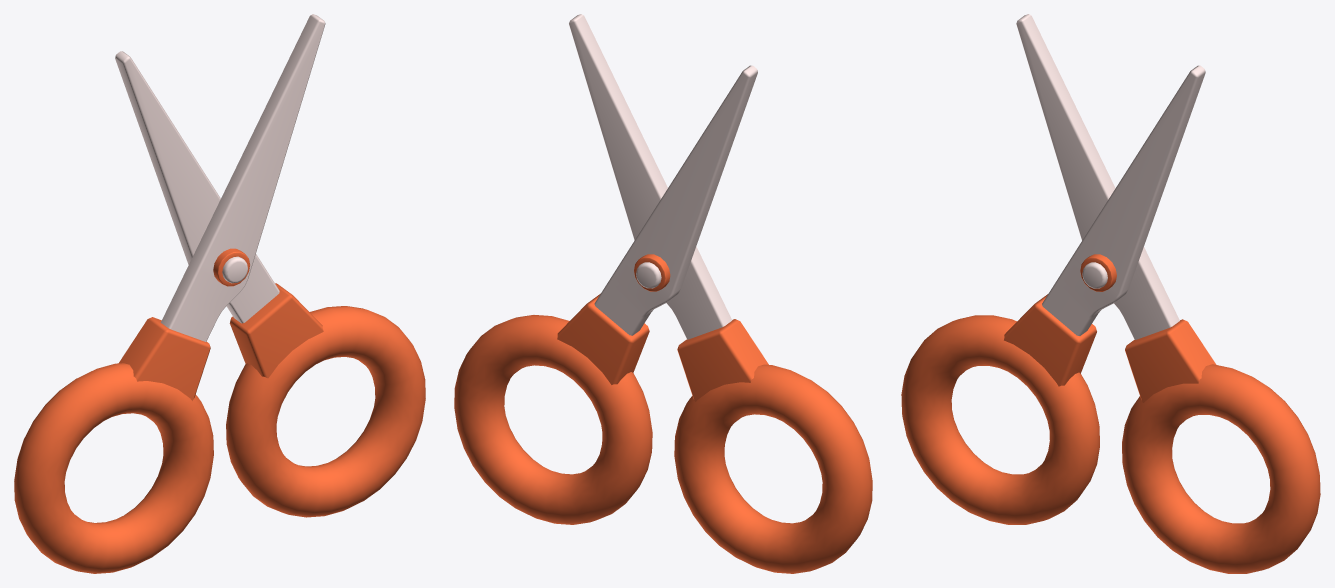
Rendered from Public_15_Small_Scissors_1.glb.
The picture shows the model from 3 angles, left to right: view 1: azimuth 30°, elevation 25°; view 2: azimuth 150°, elevation 25°; view 3: azimuth 330°, elevation 25°; orthographic projection.
Parts seen in each view (by area): view 1: Public_15_Small_Scissors_1; view 2: Public_15_Small_Scissors_1; view 3: Public_15_Small_Scissors_1.
Boxes of the visible parts, bbox=[...] form: Public_15_Small_Scissors_1: bbox=[14, 14, 425, 573]; Public_15_Small_Scissors_1: bbox=[454, 14, 872, 573]; Public_15_Small_Scissors_1: bbox=[901, 14, 1320, 573].
Size of the model in its own units: 1.45 by 1.71 by 0.216.
1 material, 1 textured.
